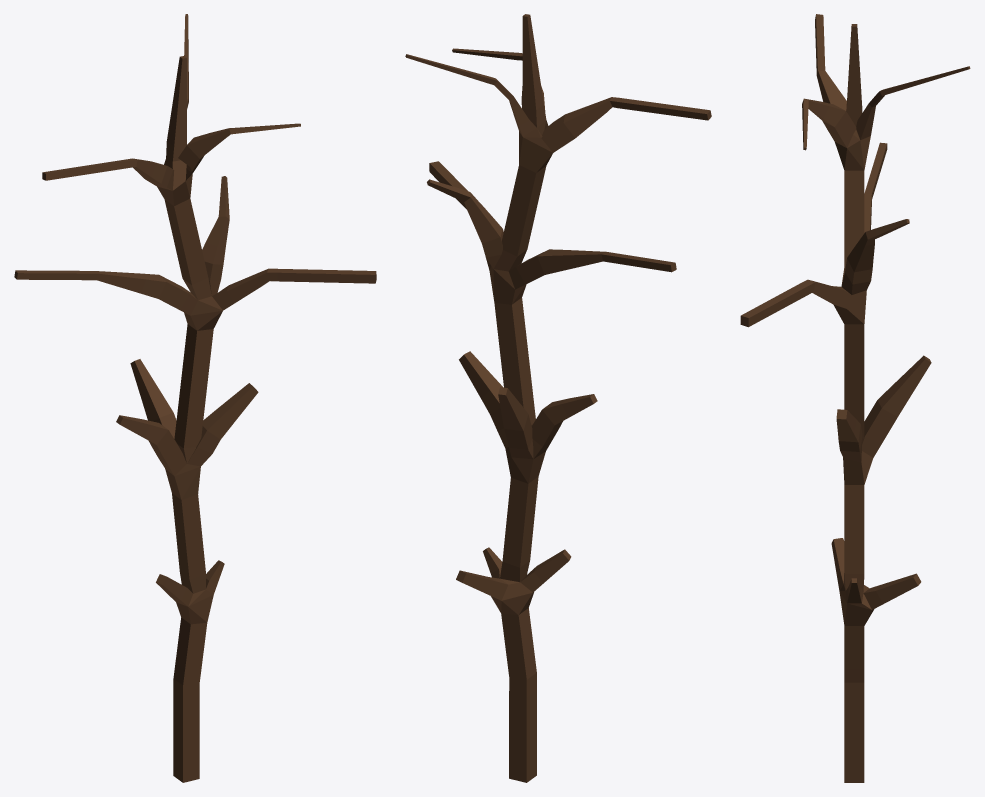
File: Swamp_Tree_Big_Naked.fbx
3 renders of one model, left to right at view 1: azimuth 30°, elevation 25°; view 2: azimuth 150°, elevation 25°; view 3: azimuth 270°, elevation 25°, orthographic. The views are drawn at different scales.
Visible parts, largest first — view 1: Cube.011; view 2: Cube.011; view 3: Cube.011.
Boxes of the visible parts, <box> form: Cube.011: <box>14,14,376,782</box>; Cube.011: <box>405,14,711,782</box>; Cube.011: <box>740,14,970,782</box>.
Size of the model in its own units: 481 by 1108 by 307.
